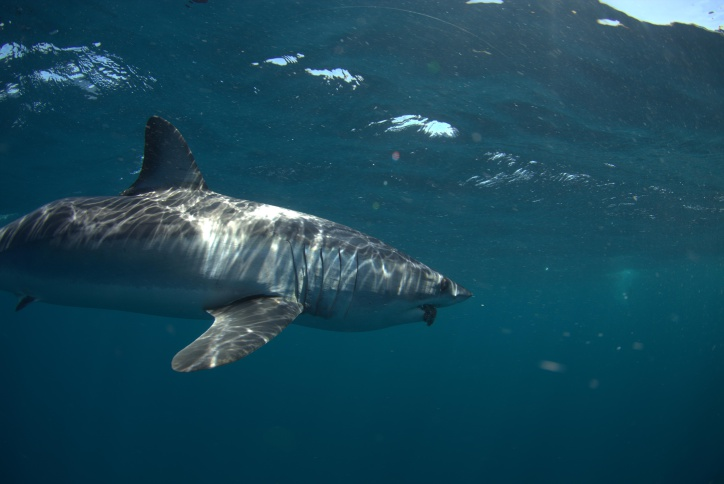Mako: (1, 106, 487, 395)
